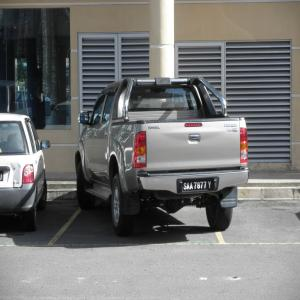Vehicle-registration-plate: (183, 181, 214, 193), (1, 172, 4, 182)
